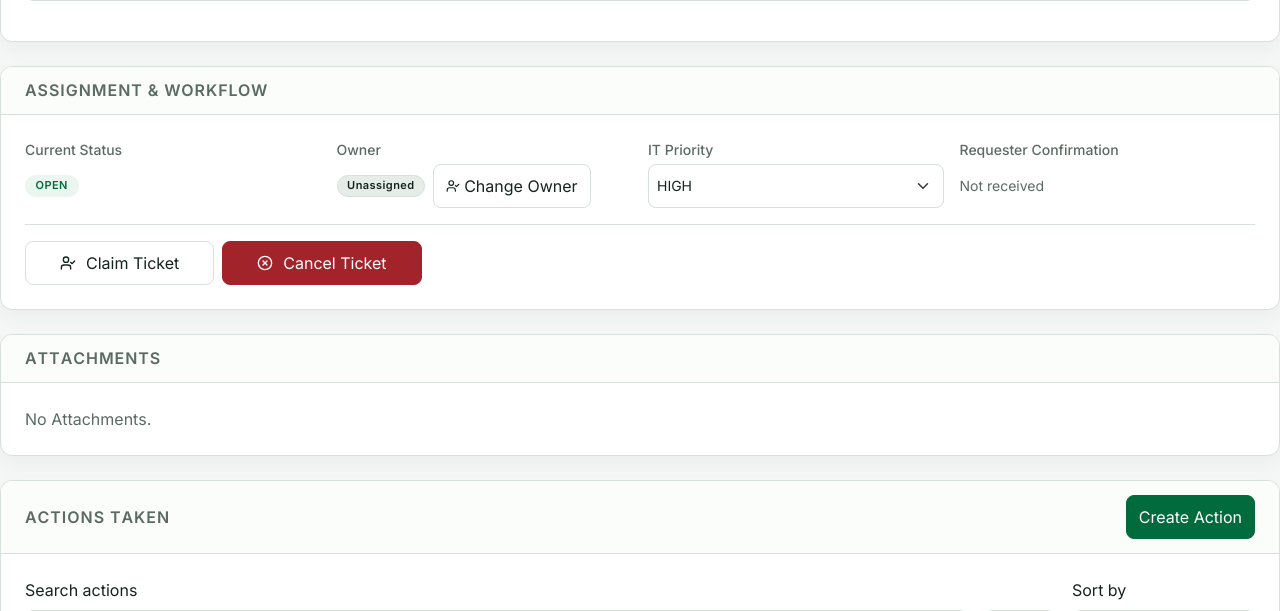
UI-15–20/22 Staff Detail @issue-5 › UI-16 allows IT Staff to Claim unassigned Ticket without confirmation dialog
This screenshot has width=1280, height=611.
(page scrolled)
Step 1. Click the button "Claim Ticket" → [120, 263], box [25,241,214,285]
(page scrolled)
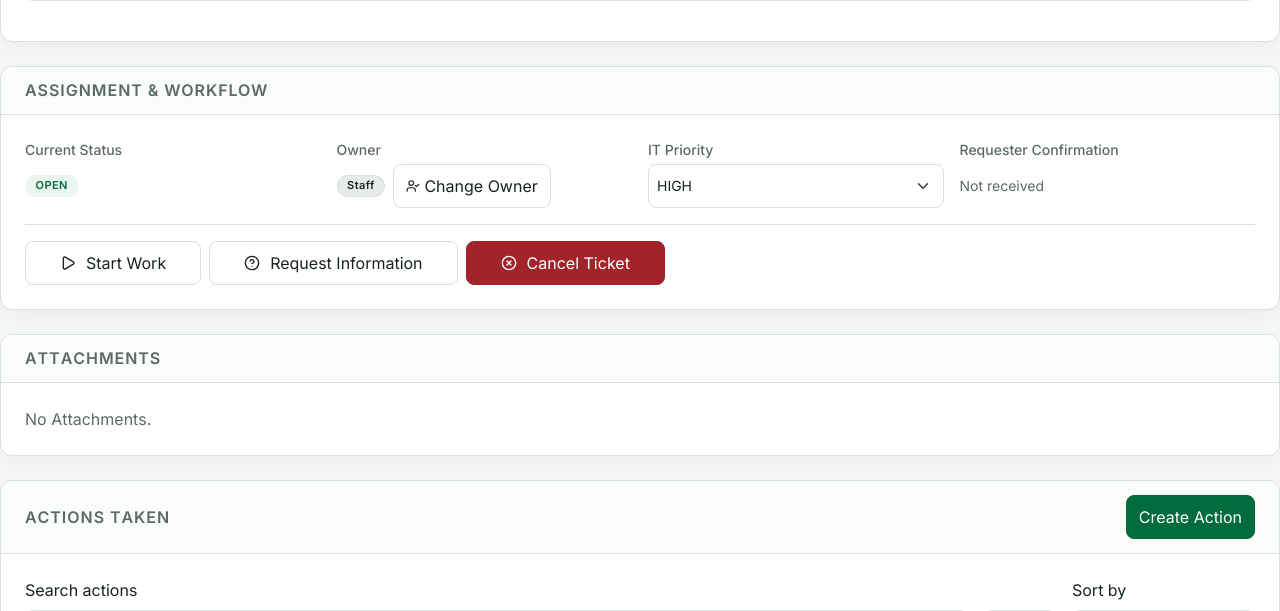
Expected: the button "Claim Ticket" is gone
